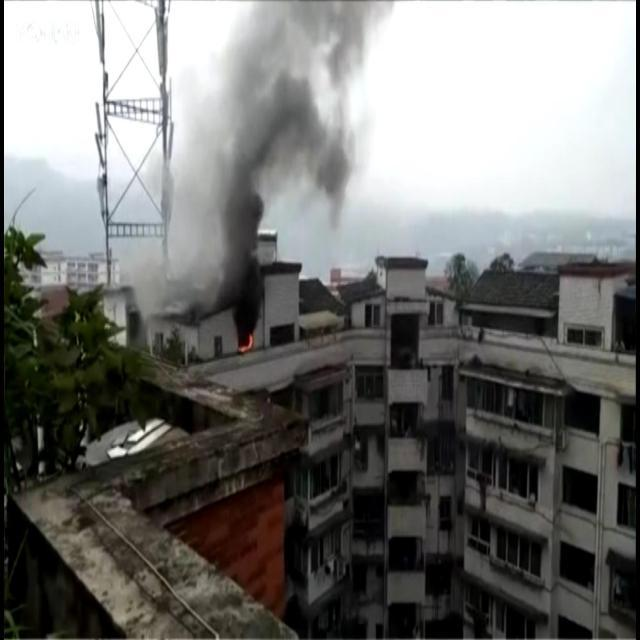Fire: (238, 331, 254, 352)
Smoke: (118, 0, 376, 323)
